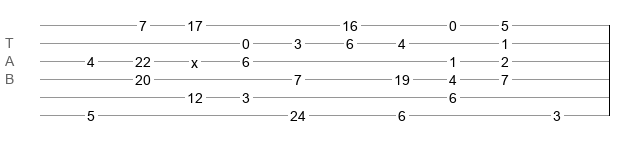0: (242, 36, 250, 46), (449, 18, 457, 28)
1: (449, 54, 457, 64), (501, 36, 509, 46)
12: (187, 90, 203, 100)
16: (342, 18, 358, 28)
17: (187, 18, 203, 28)
19: (394, 72, 410, 82)
2: (501, 54, 509, 64)
20: (135, 72, 151, 82)
22: (135, 54, 151, 64)
24: (290, 108, 306, 118)
3: (242, 90, 250, 100), (294, 36, 302, 46), (553, 108, 561, 118)
4: (87, 54, 95, 64), (398, 36, 406, 46), (449, 72, 457, 82)
5: (87, 108, 95, 118), (501, 18, 509, 28)
6: (242, 54, 250, 64), (346, 36, 354, 46), (398, 108, 406, 118), (449, 90, 457, 100)
7: (139, 18, 147, 28), (294, 72, 302, 82), (501, 72, 509, 82)
x: (191, 55, 198, 63)
